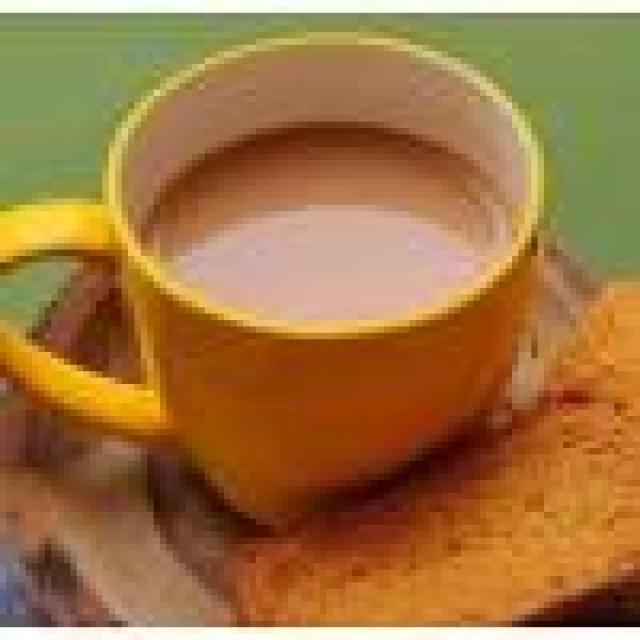taza: (3, 28, 560, 530)
